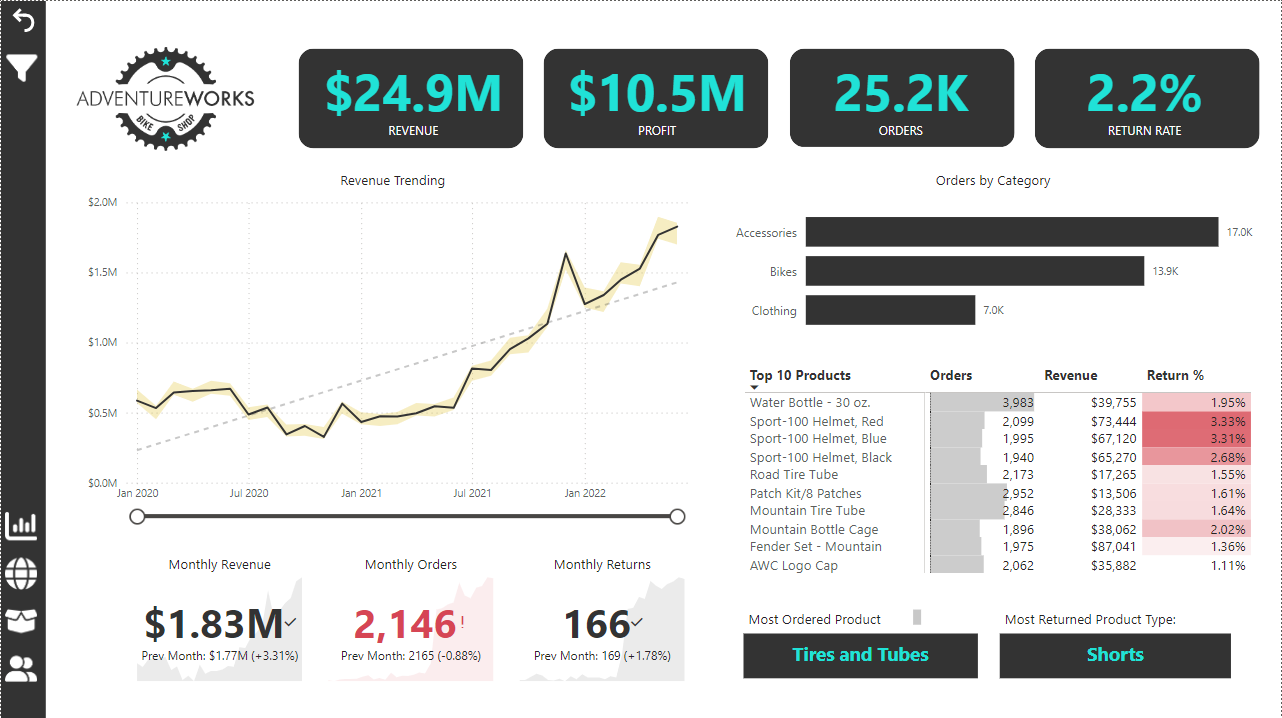

The page's visual inventory and layout, read from the dashboard file:
{"tool":"powerbi","page":{"name":"Exec Dashboard","canvas":[1280,720],"ordinal":0},"visuals":[{"type":"image","title":"AW Logo","box":[22.4,38.2,284.2,118.4],"z":0},{"type":"card","fields":{"Values":["Measure Table.Total Revenue"]},"box":[297.4,47.4,230,98.8],"z":0,"group":"g2"},{"type":"group","id":"g1","title":"KPI Backgrounds","box":[297.4,47.4,961.2,100],"z":0,"group":"g3"},{"type":"shape","box":[297.4,47.4,225,100],"z":0,"group":"g1"},{"type":"actionButton","box":[0,505,45.2,40.4],"z":0,"group":"g4"},{"type":"shape","title":"Left Nav Background","box":[0,0,45,720],"z":1000},{"type":"group","id":"g2","title":"KPI Values","box":[297.4,47.4,961.2,98.8],"z":1000,"group":"g3"},{"type":"shape","box":[542.8,47.4,225,100],"z":1000,"group":"g1"},{"type":"card","fields":{"Values":["Measure Table.Return Rate"]},"box":[1028.6,47.4,230,98.8],"z":1000,"group":"g2"},{"type":"actionButton","box":[0,552.7,45.2,40.4],"z":1000,"group":"g4"},{"type":"group","id":"g3","title":"KPIs","box":[297.4,47.4,961.8,100],"z":2000},{"type":"card","fields":{"Values":["Measure Table.Total Orders"]},"box":[784.9,47.4,230,98.8],"z":2000,"group":"g2"},{"type":"shape","box":[1033.6,47.4,225,100],"z":2000,"group":"g1"},{"type":"actionButton","box":[0,600.4,45.2,40.4],"z":2000,"group":"g4"},{"type":"card","fields":{"Values":["Measure Table.Total Profit"]},"box":[541.2,47.4,230,98.8],"z":3000,"group":"g2"},{"type":"shape","box":[788.2,47.4,225,98.8],"z":3000,"group":"g1"},{"type":"lineChart","title":"Revenue Trending","fields":{"Y":["Measure Table.Total Revenue"],"Category":["Calendar Lookup.Date Hierarchy.Start of Month"]},"box":[80.7,170,621.2,355.8],"z":3000},{"type":"actionButton","box":[0,648.1,45.2,40.4],"z":3000,"group":"g4"},{"type":"kpi","title":"Monthly Revenue","fields":{"Indicator":["Measure Table.Total Revenue"],"TrendLine":["Calendar Lookup.Date Hierarchy.Start of Month"],"Goal":["Measure Table.Previous Month Revenue"]},"box":[131.6,553.9,175,131.6],"z":4000},{"type":"kpi","title":"Monthly Returns","fields":{"TrendLine":["Calendar Lookup.Date Hierarchy.Start of Month"],"Goal":["Measure Table.Previous Month Returns"],"Indicator":["Measure Table.Total Returns"]},"box":[513.2,553.9,175,131.6],"z":5000},{"type":"kpi","title":"Monthly Orders","fields":{"TrendLine":["Calendar Lookup.Date Hierarchy.Start of Month"],"Indicator":["Measure Table.Total Orders"],"Goal":["Measure Table.Previous Month Orders"]},"box":[322.4,553.9,175,131.6],"z":6000},{"type":"clusteredBarChart","title":"Orders by Category","fields":{"Category":["Product Categories Lookup.CategoryName"],"Y":["Measure Table.Total Orders"]},"box":[725,169.7,534.2,176.3],"z":7000},{"type":"pivotTable","fields":{"Rows":["Product Lookup.ProductName"],"Values":["Measure Table.Total Orders","Measure Table.Total Revenue","Measure Table.Return Rate"]},"box":[738.2,360.5,521.1,222.4],"z":8000},{"type":"card","fields":{"Values":["Min(Product Subcategories Lookup.SubcategoryName)"]},"box":[742.1,632.9,234.2,44.7],"z":9000},{"type":"textbox","box":[742.1,603.4,182.9,28.9],"z":10000},{"type":"card","fields":{"Values":["Min(Product Subcategories Lookup.SubcategoryName)"]},"box":[998.7,632.9,231.6,44.7],"z":11000},{"type":"textbox","box":[998.7,603.9,189.5,28.9],"z":12000},{"type":"actionButton","box":[6.1,0,33,37.9],"z":13000},{"type":"group","id":"g4","title":"Navigation Buttons","box":[0,505,45.2,183.4],"z":14000},{"type":"actionButton","box":[1.5,47.7,39.1,39.1],"z":15000}]}

Visuals, with their boxes on the page's 1280x720 design canvas (x1, y1, x2, y2). These are canvas units, not pixel positions in the 1282x718 screenshot, which may show the page scaled, cropped or inside an application window:
"AW Logo" image: 22, 38, 307, 157
card - Measure Table.Total Revenue: 297, 47, 527, 146
"KPI Backgrounds" group: 297, 47, 1259, 147
shape: 297, 47, 522, 147
actionButton: 0, 505, 45, 545
"Left Nav Background" shape: 0, 0, 45, 720
"KPI Values" group: 297, 47, 1259, 146
shape: 543, 47, 768, 147
card - Measure Table.Return Rate: 1029, 47, 1259, 146
actionButton: 0, 553, 45, 593
"KPIs" group: 297, 47, 1259, 147
card - Measure Table.Total Orders: 785, 47, 1015, 146
shape: 1034, 47, 1259, 147
actionButton: 0, 600, 45, 641
card - Measure Table.Total Profit: 541, 47, 771, 146
shape: 788, 47, 1013, 146
"Revenue Trending" lineChart: 81, 170, 702, 526
actionButton: 0, 648, 45, 688
"Monthly Revenue" kpi: 132, 554, 307, 686
"Monthly Returns" kpi: 513, 554, 688, 686
"Monthly Orders" kpi: 322, 554, 497, 686
"Orders by Category" clusteredBarChart: 725, 170, 1259, 346
pivotTable - Product Lookup.ProductName x Measure Table.Total Orders: 738, 360, 1259, 583
card - Min(Product Subcategories Lookup.SubcategoryName): 742, 633, 976, 678
textbox: 742, 603, 925, 632
card - Min(Product Subcategories Lookup.SubcategoryName): 999, 633, 1230, 678
textbox: 999, 604, 1188, 633
actionButton: 6, 0, 39, 38
"Navigation Buttons" group: 0, 505, 45, 688
actionButton: 2, 48, 41, 87
